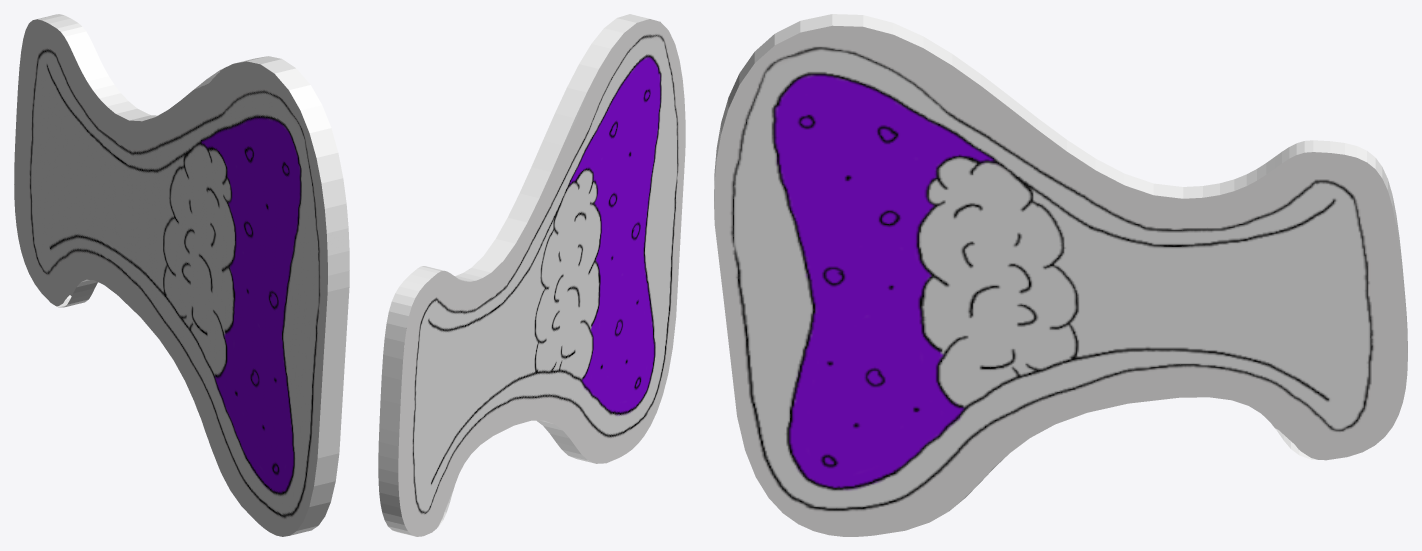
Rendered from Psychedelic Rush.fbx.
3 renders of one model, left to right at view 1: azimuth 30°, elevation 25°; view 2: azimuth 150°, elevation 25°; view 3: azimuth 270°, elevation 25°, orthographic. The views are drawn at different scales.
Parts seen in each view (by area): view 1: PR_Mesh; view 2: PR_Mesh; view 3: PR_Mesh.
Part boxes in pixels (x1,y1,x2,y2): PR_Mesh: (14, 14, 349, 536); PR_Mesh: (378, 14, 685, 536); PR_Mesh: (714, 14, 1407, 536).
Size of the model in its own units: 0.0113 by 0.2816 by 0.2289.
